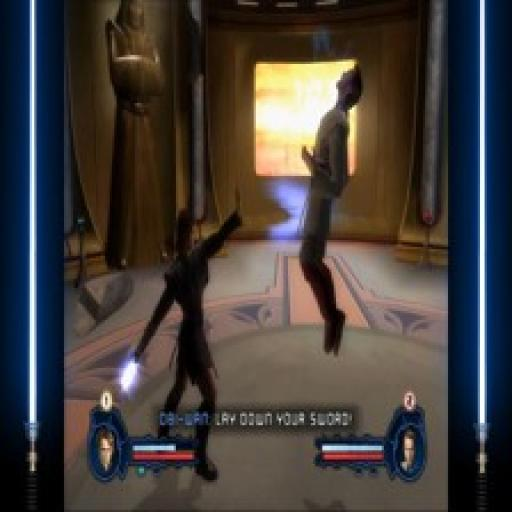human: (139, 208, 252, 488), (286, 62, 372, 362)
lightsaber: (19, 0, 41, 477), (476, 0, 488, 479), (118, 347, 146, 403)
